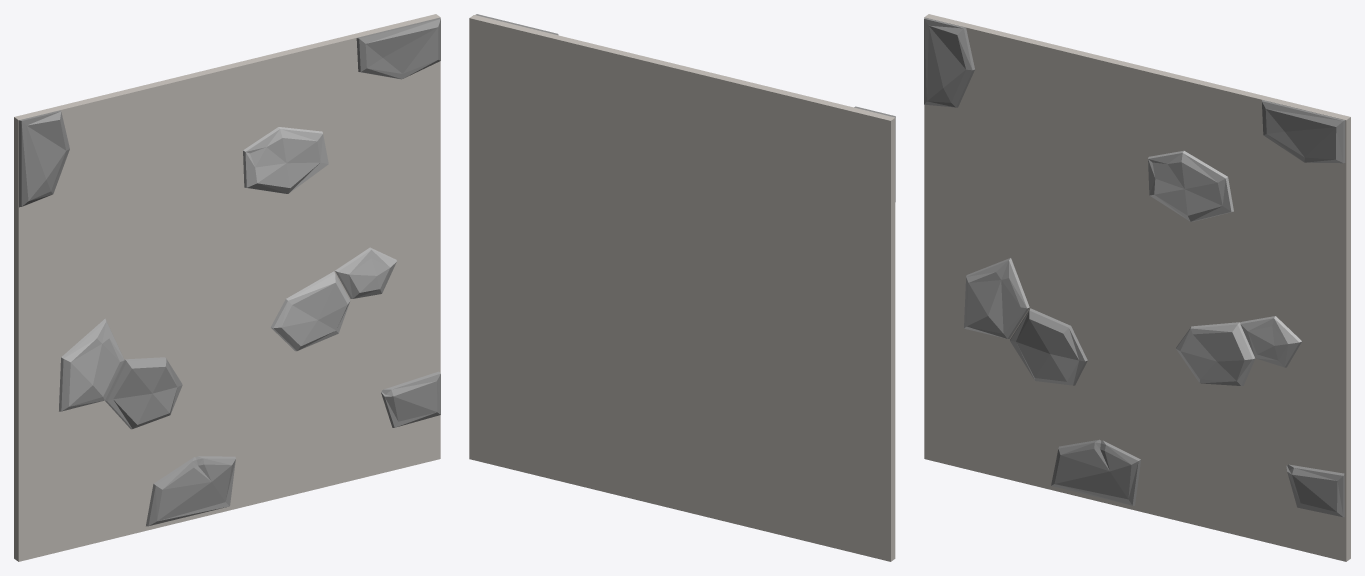
The model's file is _WALL_05_1.fbx.
3 renders of one model, left to right at view 1: azimuth 30°, elevation 25°; view 2: azimuth 150°, elevation 25°; view 3: azimuth 330°, elevation 25°, orthographic.
Visible parts, largest first — view 1: WALL_05_1; view 2: WALL_05_1; view 3: WALL_05_1.
Boxes of the visible parts, <box> form: WALL_05_1: <box>14,14,440,561</box>; WALL_05_1: <box>469,14,895,561</box>; WALL_05_1: <box>924,14,1350,561</box>.
Bounding box in the file's own units: 300 × 300 × 12.
